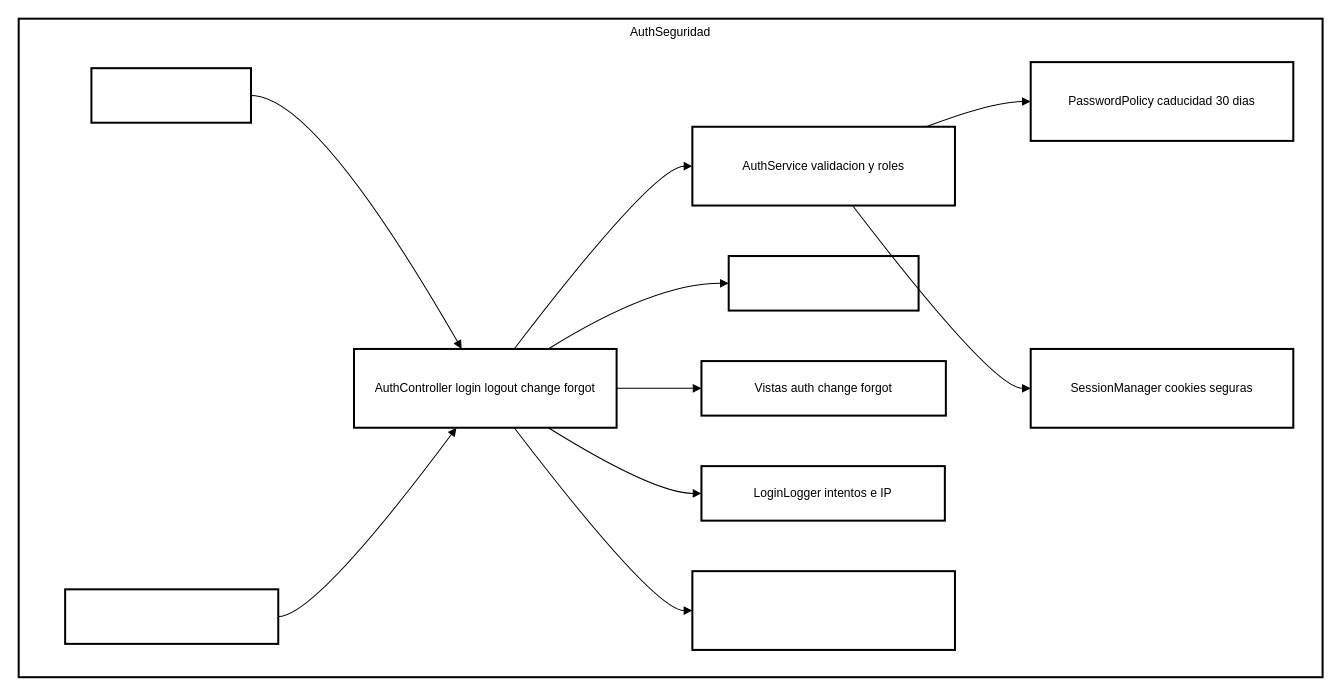
Image size: 1340x695. Some labels were removed from this diagram. Each missing label, with the box of its shape:
MailService claves temporales: (691, 570, 955, 650)
Middleware CSRF XSS: (64, 588, 279, 644)
Router a Auth: (90, 67, 251, 123)
UsuarioRepository: (727, 255, 919, 311)
